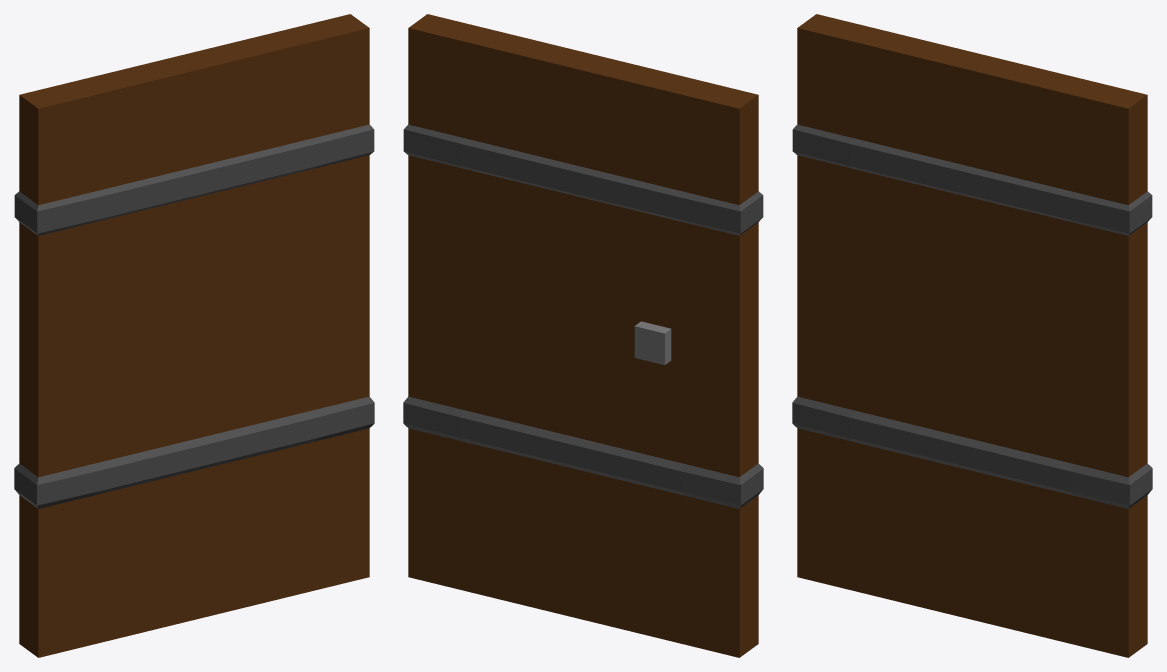
The model's file is MBS_City_Door.fbx.
3 views of the same model, side by side, from view 1: azimuth 30°, elevation 25°; view 2: azimuth 150°, elevation 25°; view 3: azimuth 330°, elevation 25° (orthographic).
Parts seen in each view (by area): view 1: Cube.190; view 2: Cube.190; view 3: Cube.190.
Boxes of the visible parts, left/top/right/bottom form: Cube.190: left=14, top=14, right=374, bottom=657; Cube.190: left=403, top=14, right=763, bottom=657; Cube.190: left=792, top=14, right=1152, bottom=657.
Bounding box in the file's own units: 204 × 317 × 29.72.
